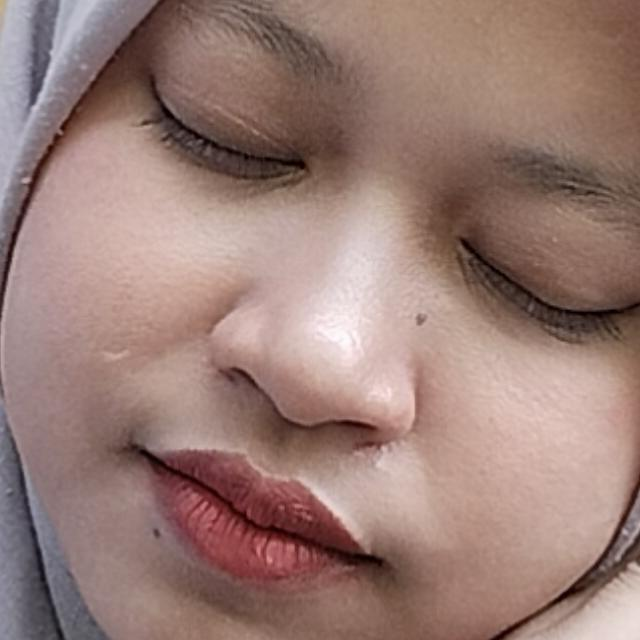tidur: (0, 228, 640, 640)
